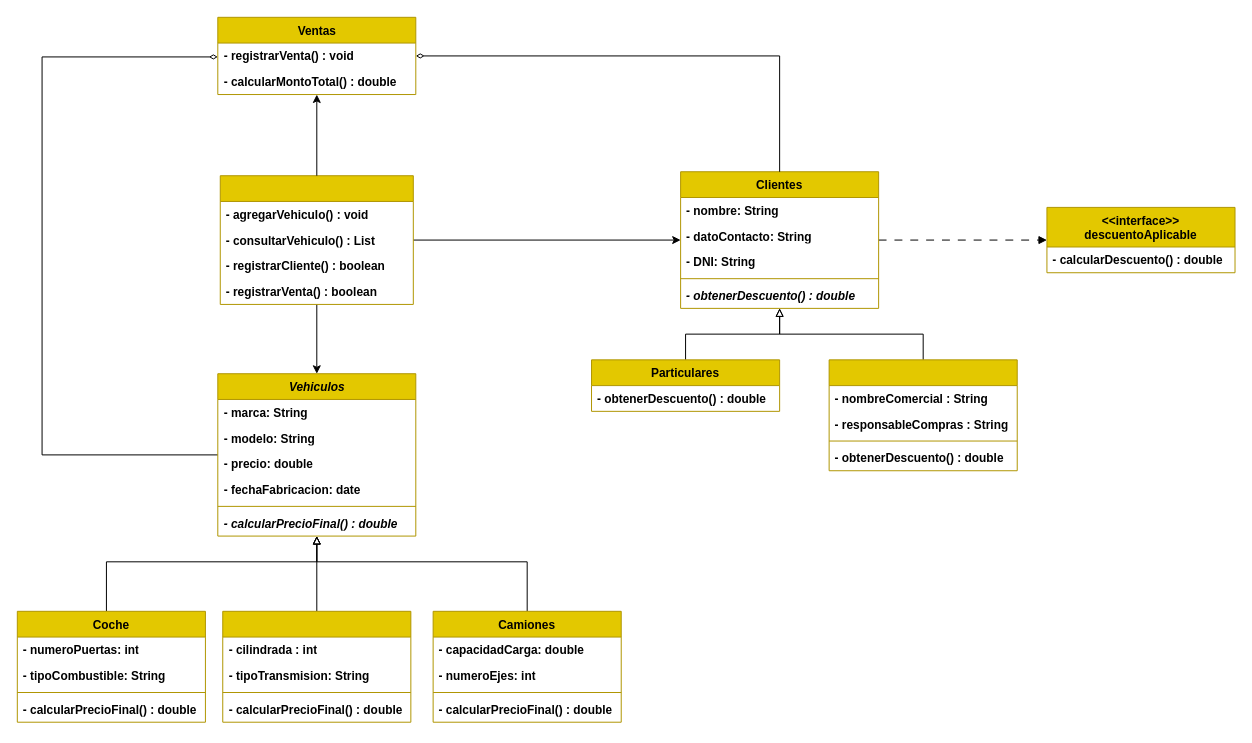
Some shapes in this 1252 by 743 pixel diagram are drawn without their labels. The box of each missing label's shape, as (x1, y1, x2, y2) in pixels:
Concecionario: (219, 175, 413, 304)
Empresas: (828, 359, 1017, 471)
Motocicleta: (222, 610, 411, 722)
